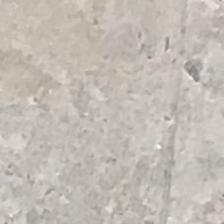Non_Crack: (28, 90, 224, 206)
